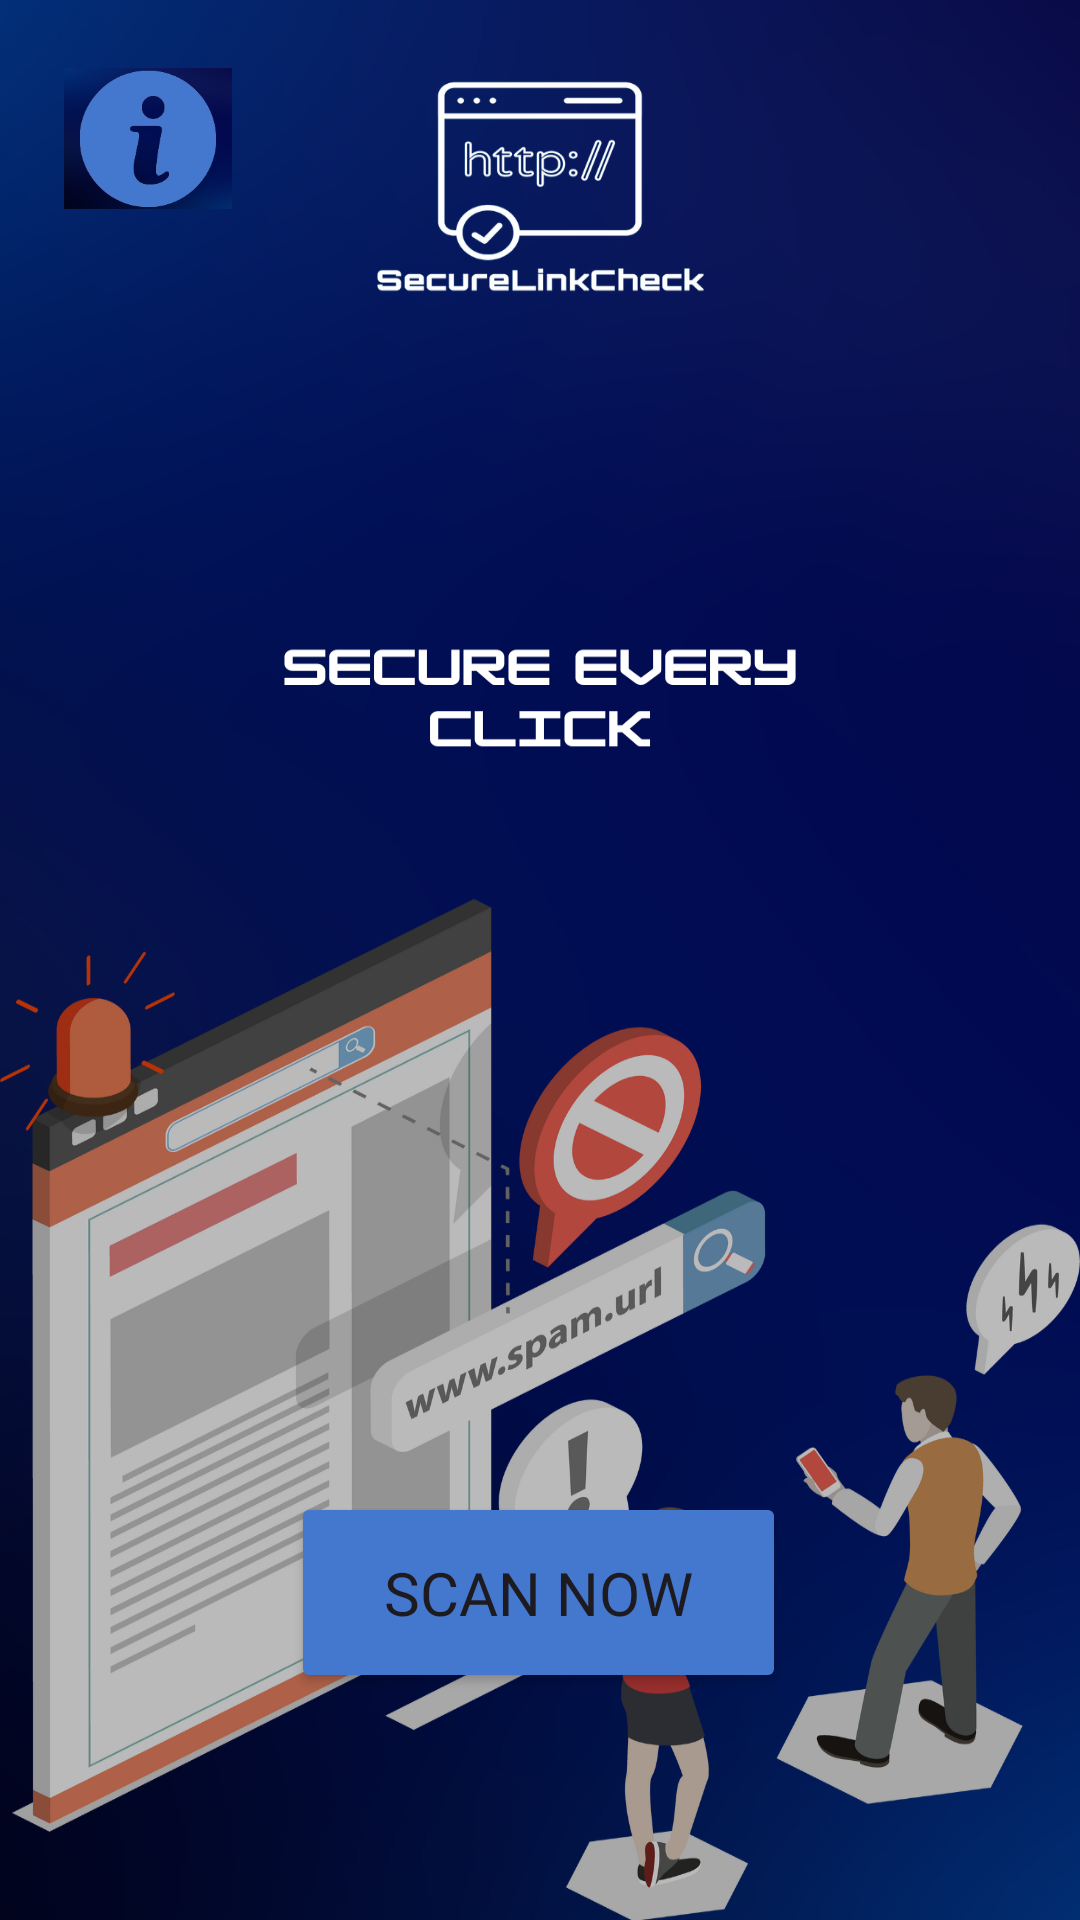

Icons on this 1080×1920 Android screen, each with its box as (x1, y1, x2, y2):
instructicon: (64, 68, 232, 209)
